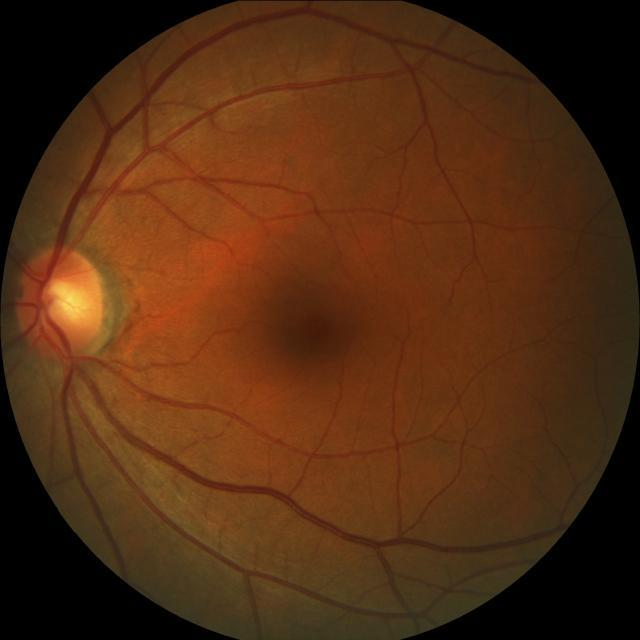OC: (47, 279, 89, 320)
OD: (17, 245, 108, 359)
